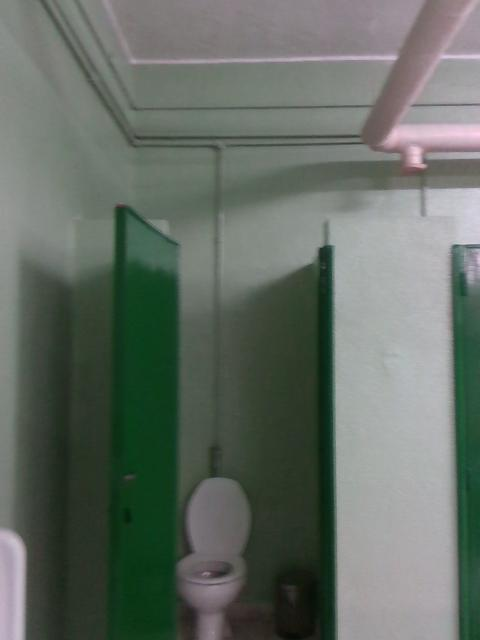open_door: (151, 214, 338, 638)
